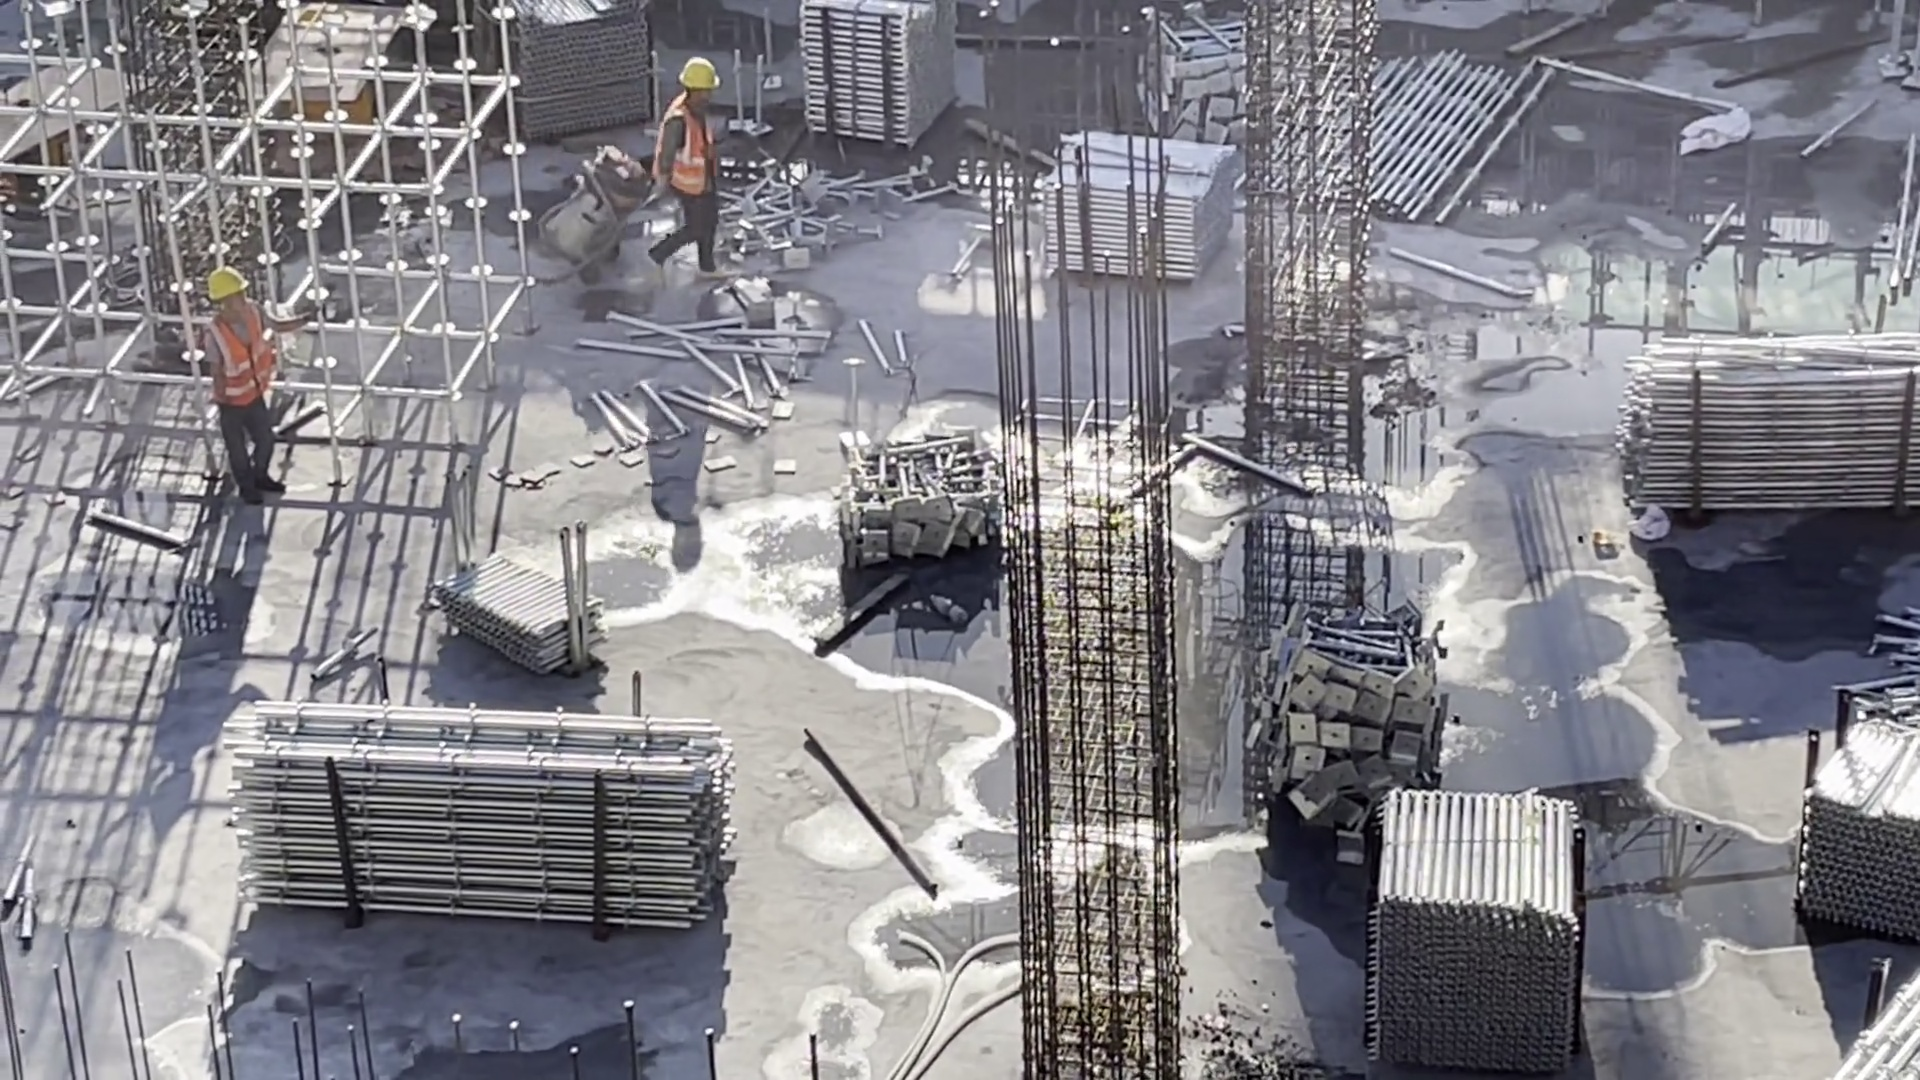cutter: (1, 43, 186, 217), (251, 9, 418, 135)
helmet: (680, 54, 725, 91), (201, 265, 248, 297)
person: (186, 258, 312, 498), (656, 46, 736, 271)
scaffold: (223, 688, 754, 940), (1606, 326, 1913, 537), (1354, 789, 1571, 1071), (1268, 605, 1464, 836), (1369, 50, 1567, 213), (1034, 130, 1245, 280), (1806, 708, 1920, 922), (477, 1, 648, 140), (806, 1, 949, 150), (839, 432, 1011, 555), (433, 546, 606, 666), (1129, 31, 1311, 145), (1819, 978, 1915, 1080), (1857, 605, 1920, 737)
vest: (206, 312, 276, 408), (668, 99, 717, 197)
